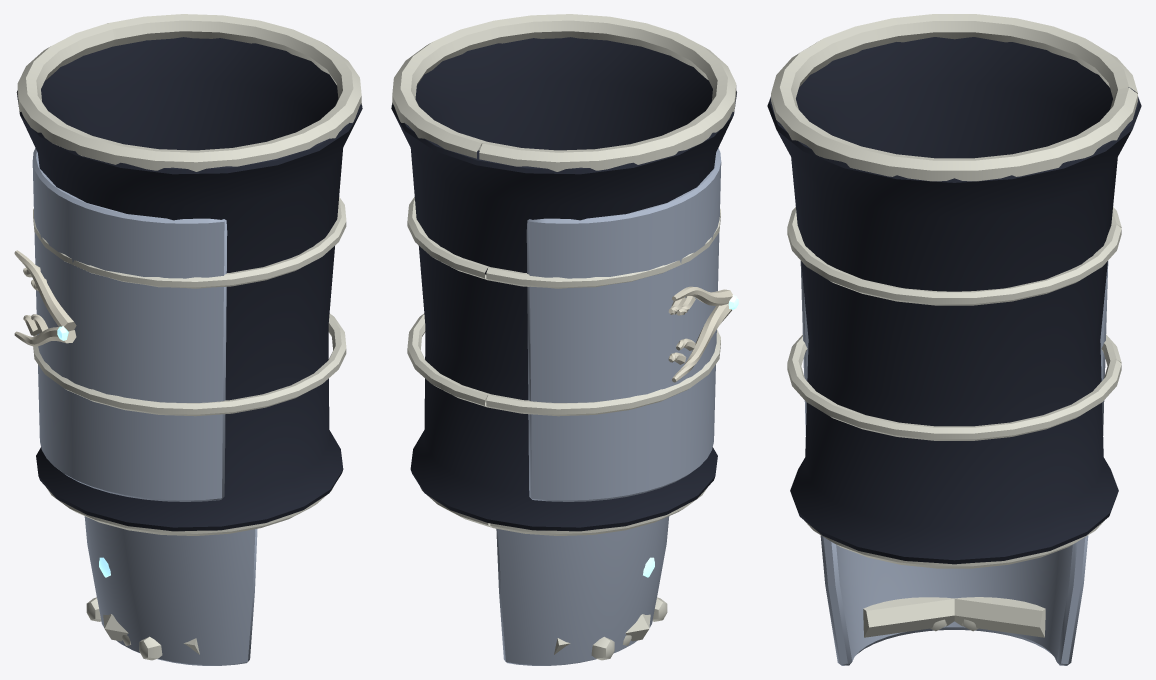
Rendered from boss_pale_requiem_gloves_2.glb.
3 views of the same model, side by side, from view 1: azimuth 30°, elevation 25°; view 2: azimuth 150°, elevation 25°; view 3: azimuth 270°, elevation 25° (orthographic). The views are drawn at different scales.
Visible parts, largest first — view 1: boss_pale_requiem_gloves_2, AT_hand_R; view 2: boss_pale_requiem_gloves_2, AT_hand_R; view 3: boss_pale_requiem_gloves_2, AT_hand_R.
Boxes of the visible parts, x1,y1,x2,y2 form: boss_pale_requiem_gloves_2: (14, 14, 362, 535); AT_hand_R: (84, 516, 257, 665); boss_pale_requiem_gloves_2: (391, 14, 738, 535); AT_hand_R: (496, 516, 669, 665); boss_pale_requiem_gloves_2: (767, 14, 1141, 568); AT_hand_R: (820, 535, 1088, 665).
Size of the model in its own units: 0.1986 by 0.3408 by 0.2004.
